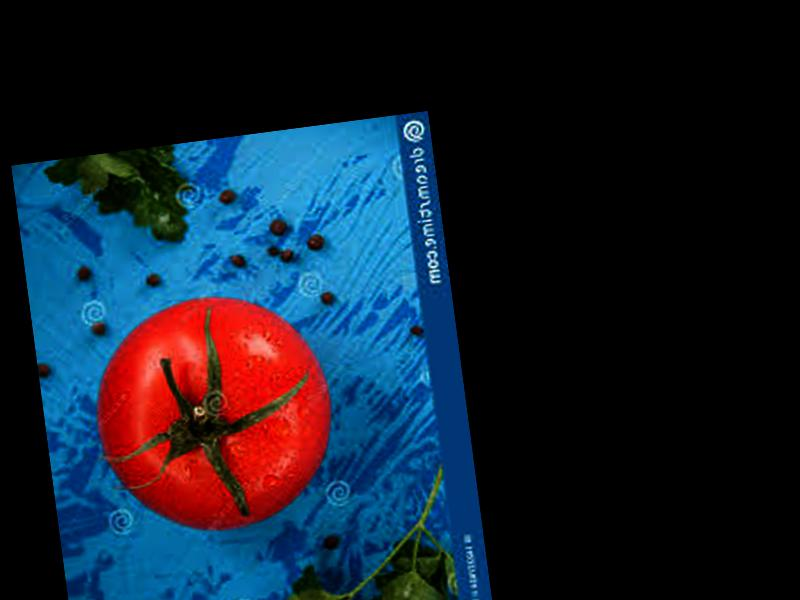Tomato: (84, 283, 345, 544)
